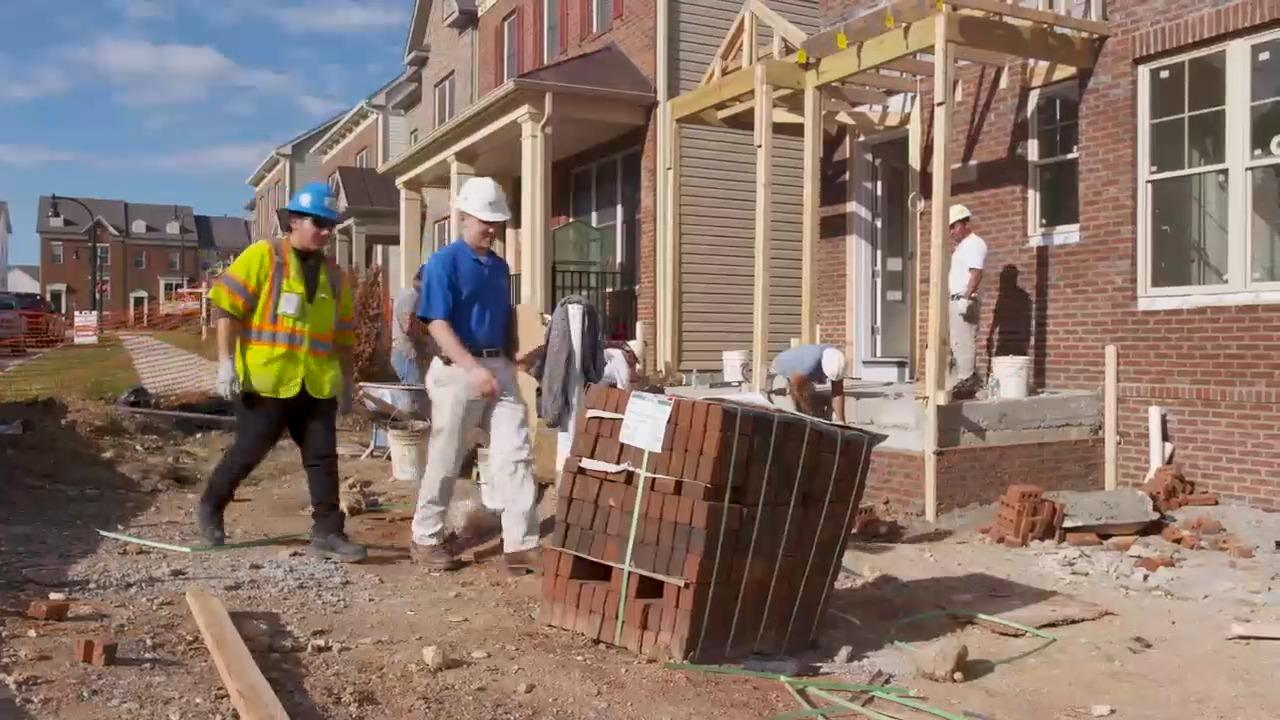Gloves: (212, 355, 248, 398), (340, 376, 357, 420), (951, 293, 971, 316)
Helmet: (454, 181, 515, 217), (280, 183, 337, 219), (825, 349, 851, 388), (943, 206, 971, 226)
Person: (188, 182, 361, 564), (404, 157, 557, 568), (932, 190, 988, 409), (761, 336, 855, 425)
Safety Boot: (306, 530, 367, 563), (408, 539, 462, 570), (194, 500, 226, 546), (502, 546, 542, 574), (955, 374, 980, 397)
Safety Vest: (206, 235, 357, 401)
bare-arms: (471, 360, 501, 402)
no-vest: (431, 256, 510, 358), (950, 242, 983, 286), (780, 355, 818, 384)
